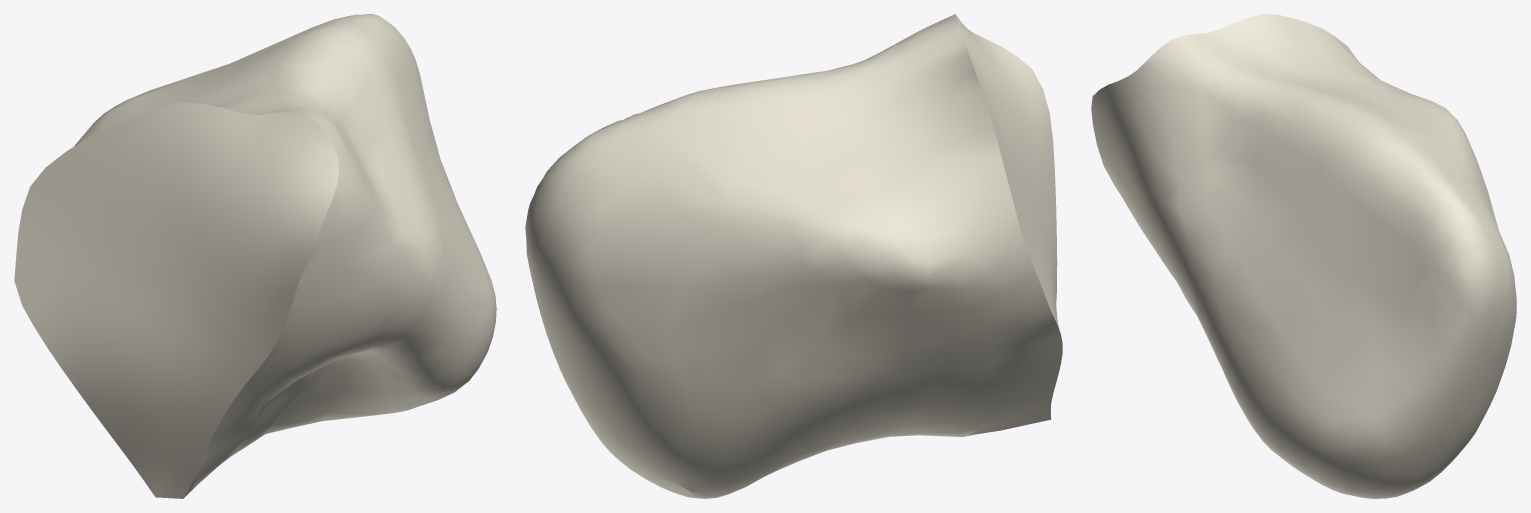
File: fma11942_mm2403.glb
The picture shows the model from 3 angles, left to right: view 1: azimuth 30°, elevation 25°; view 2: azimuth 150°, elevation 25°; view 3: azimuth 270°, elevation 25°; orthographic projection. The views are drawn at different scales.
Visible parts, largest first — view 1: FMA11942_MM2403; view 2: FMA11942_MM2403; view 3: FMA11942_MM2403.
Part boxes in pixels (box(x1,y1,x2,y2)): FMA11942_MM2403: box(14, 14, 496, 498); FMA11942_MM2403: box(525, 14, 1062, 498); FMA11942_MM2403: box(1091, 14, 1516, 498).
Bounding box in the file's own units: 0.0152 × 0.0129 × 0.0132.
